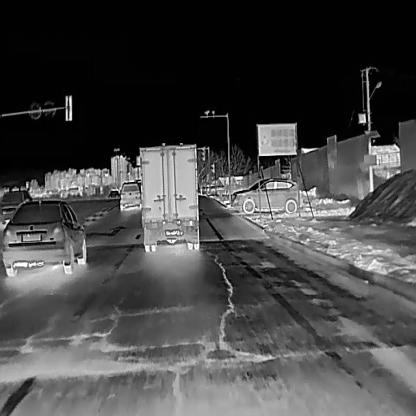car: (1, 199, 86, 275), (229, 176, 301, 214), (0, 188, 32, 224), (118, 180, 142, 210)
truck: (136, 143, 200, 252)
